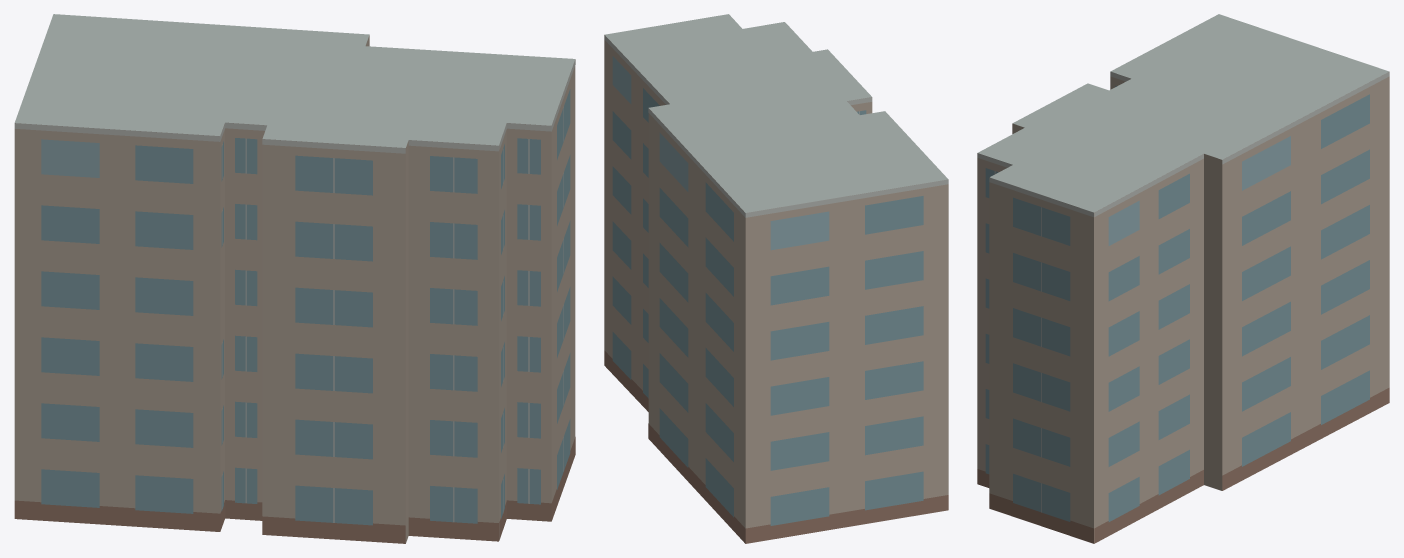
Rendered from survey-upis-32960778.glb.
The picture shows the model from 3 angles, left to right: view 1: azimuth 30°, elevation 25°; view 2: azimuth 150°, elevation 25°; view 3: azimuth 270°, elevation 25°; orthographic projection. The views are drawn at different scales.
Visible parts, largest first — view 1: survey-upis-32960778.tmp; view 2: survey-upis-32960778.tmp; view 3: survey-upis-32960778.tmp.
Part boxes in pixels (bbox=[...]): survey-upis-32960778.tmp: bbox=[14, 14, 575, 543]; survey-upis-32960778.tmp: bbox=[604, 14, 948, 543]; survey-upis-32960778.tmp: bbox=[977, 14, 1389, 543].
Bounding box in the file's own units: 21.61 × 16.8 × 18.95.
